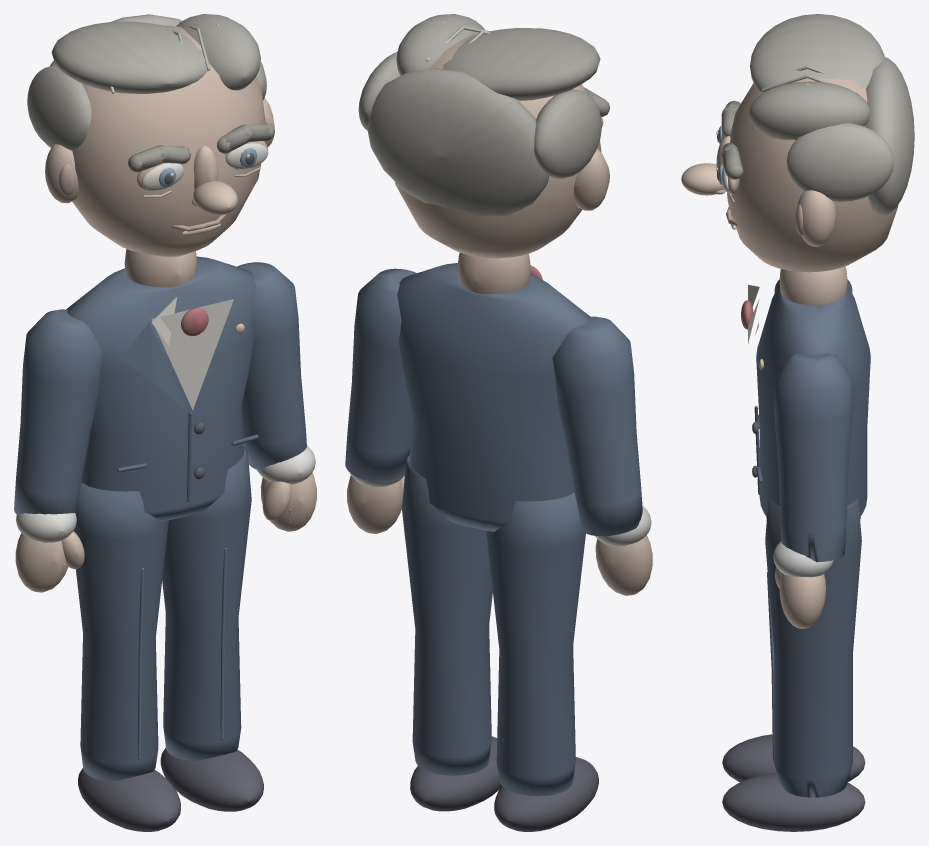
File: george_h_w_bush_1990_v1.glb
3 views of the same model, side by side, from view 1: azimuth 30°, elevation 25°; view 2: azimuth 150°, elevation 25°; view 3: azimuth 270°, elevation 25° (orthographic). The views are drawn at different scales.
Parts seen in each view (by area): view 1: George H. W. Bush; view 2: George H. W. Bush; view 3: George H. W. Bush.
Part boxes in pixels (<box>): George H. W. Bush: <box>14,14,316,831</box>; George H. W. Bush: <box>345,14,652,831</box>; George H. W. Bush: <box>681,14,914,831</box>.
Bounding box in the file's own units: 1.86 × 4.65 × 1.3.
